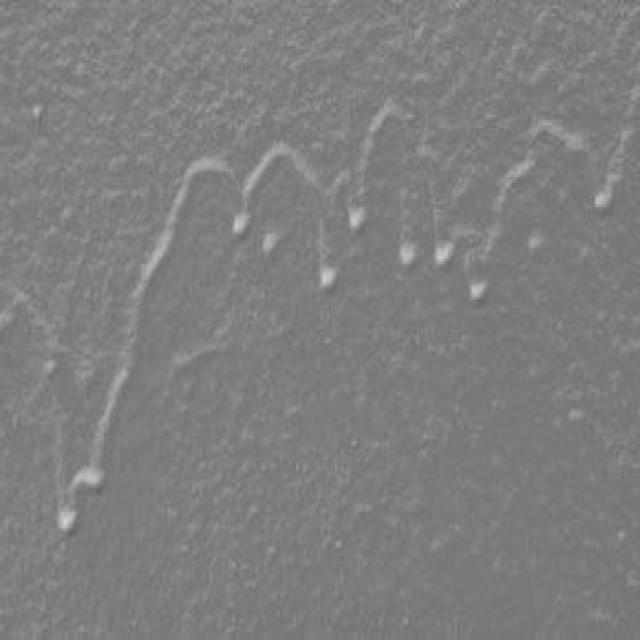paint drips: (213, 82, 637, 316), (3, 123, 209, 550)
